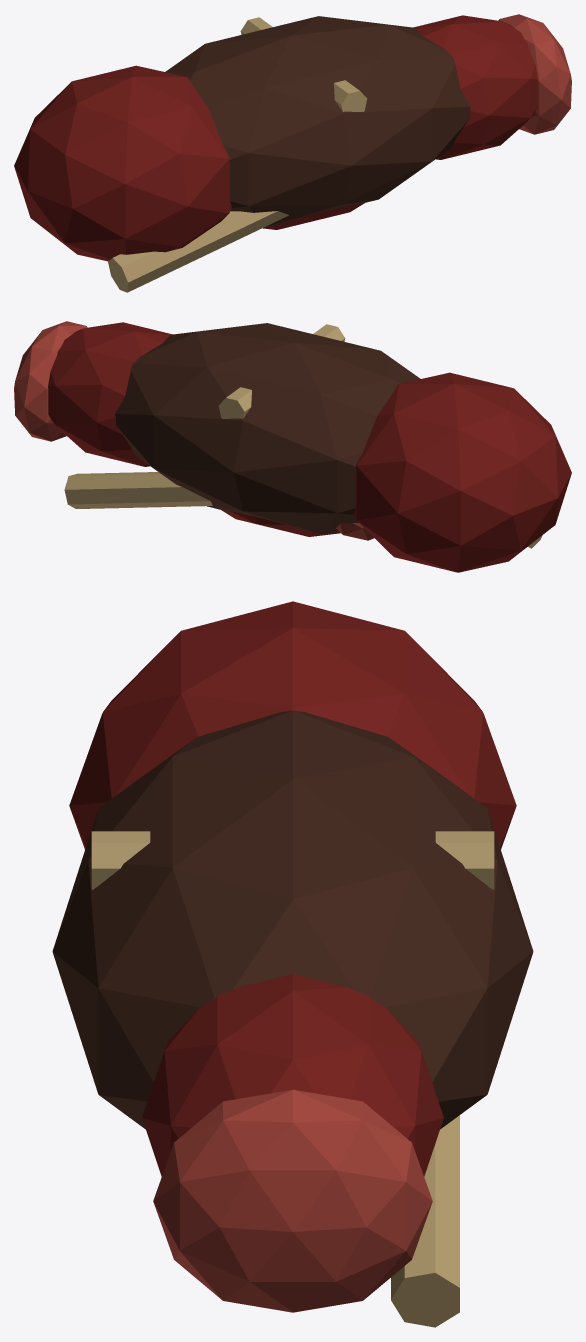
The model's file is wyvern-food.glb.
The picture shows the model from 3 angles, top to bottom: view 1: azimuth 30°, elevation 25°; view 2: azimuth 150°, elevation 25°; view 3: azimuth 270°, elevation 25°; orthographic projection. The views are drawn at different scales.
Visible parts, largest first — view 1: prop.food.carcass, prop.food.meat; view 2: prop.food.carcass, prop.food.meat; view 3: prop.food.carcass.
Boxes of the visible parts, x1,y1,x2,y2 form: prop.food.carcass: (14, 14, 571, 292); prop.food.meat: (263, 203, 364, 229); prop.food.carcass: (14, 321, 571, 572); prop.food.meat: (221, 510, 374, 540); prop.food.carcass: (52, 601, 533, 1327).
Bounding box in the file's own units: 2.19 × 0.7305 × 0.86.
